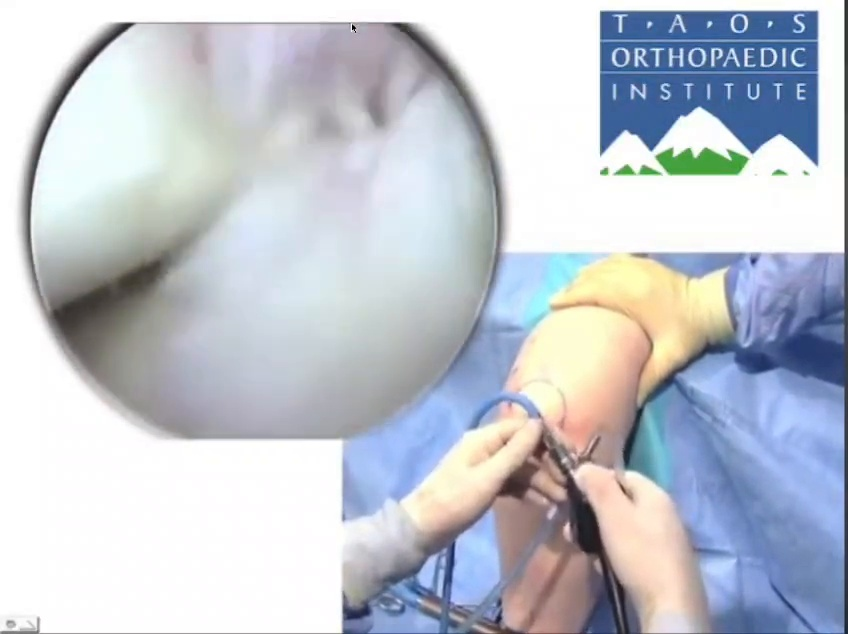probe: (745, 376, 848, 634)
